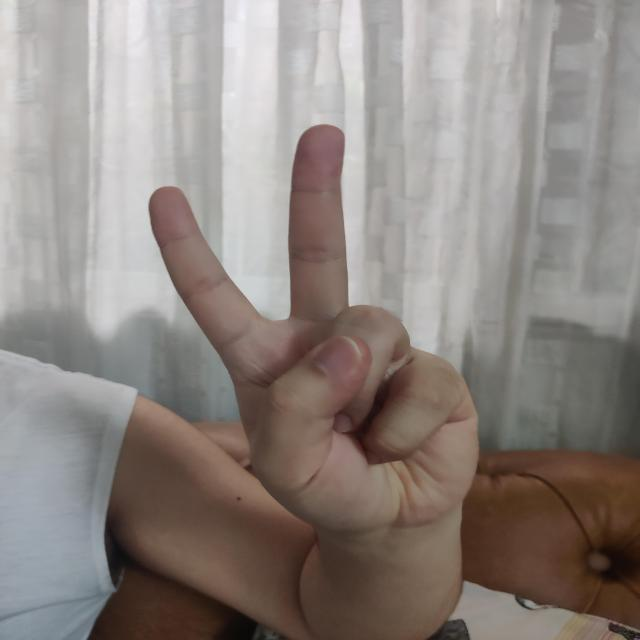V: (146, 121, 481, 534)
